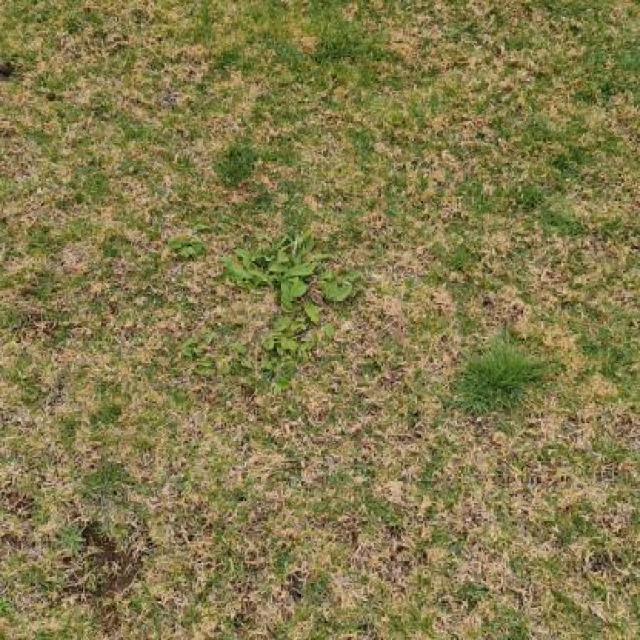weed: (223, 234, 360, 368)
